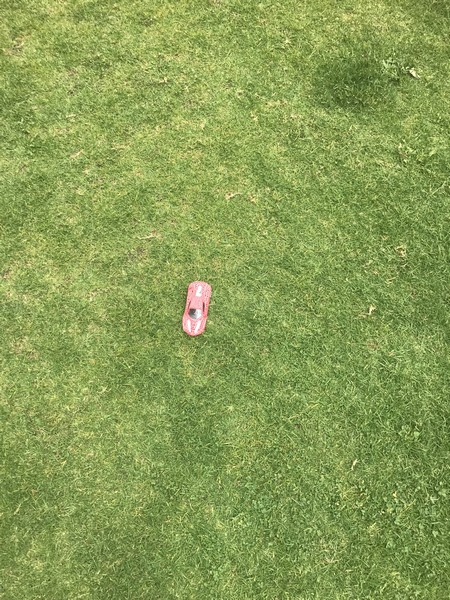RC: (178, 277, 214, 339)
